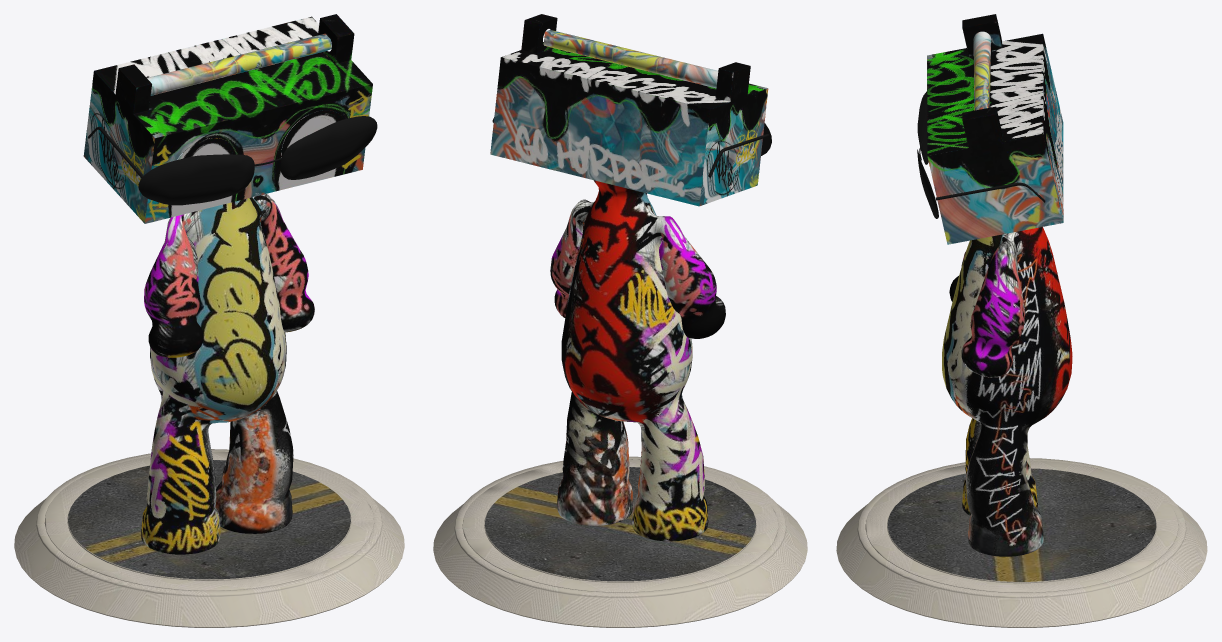
The picture shows the model from 3 angles, left to right: view 1: azimuth 30°, elevation 25°; view 2: azimuth 150°, elevation 25°; view 3: azimuth 270°, elevation 25°; orthographic projection. The views are drawn at different scales.
Bounding box in the file's own units: 1.45 × 2.1 × 1.45.
Materials: 5 (4 with a texture image).
